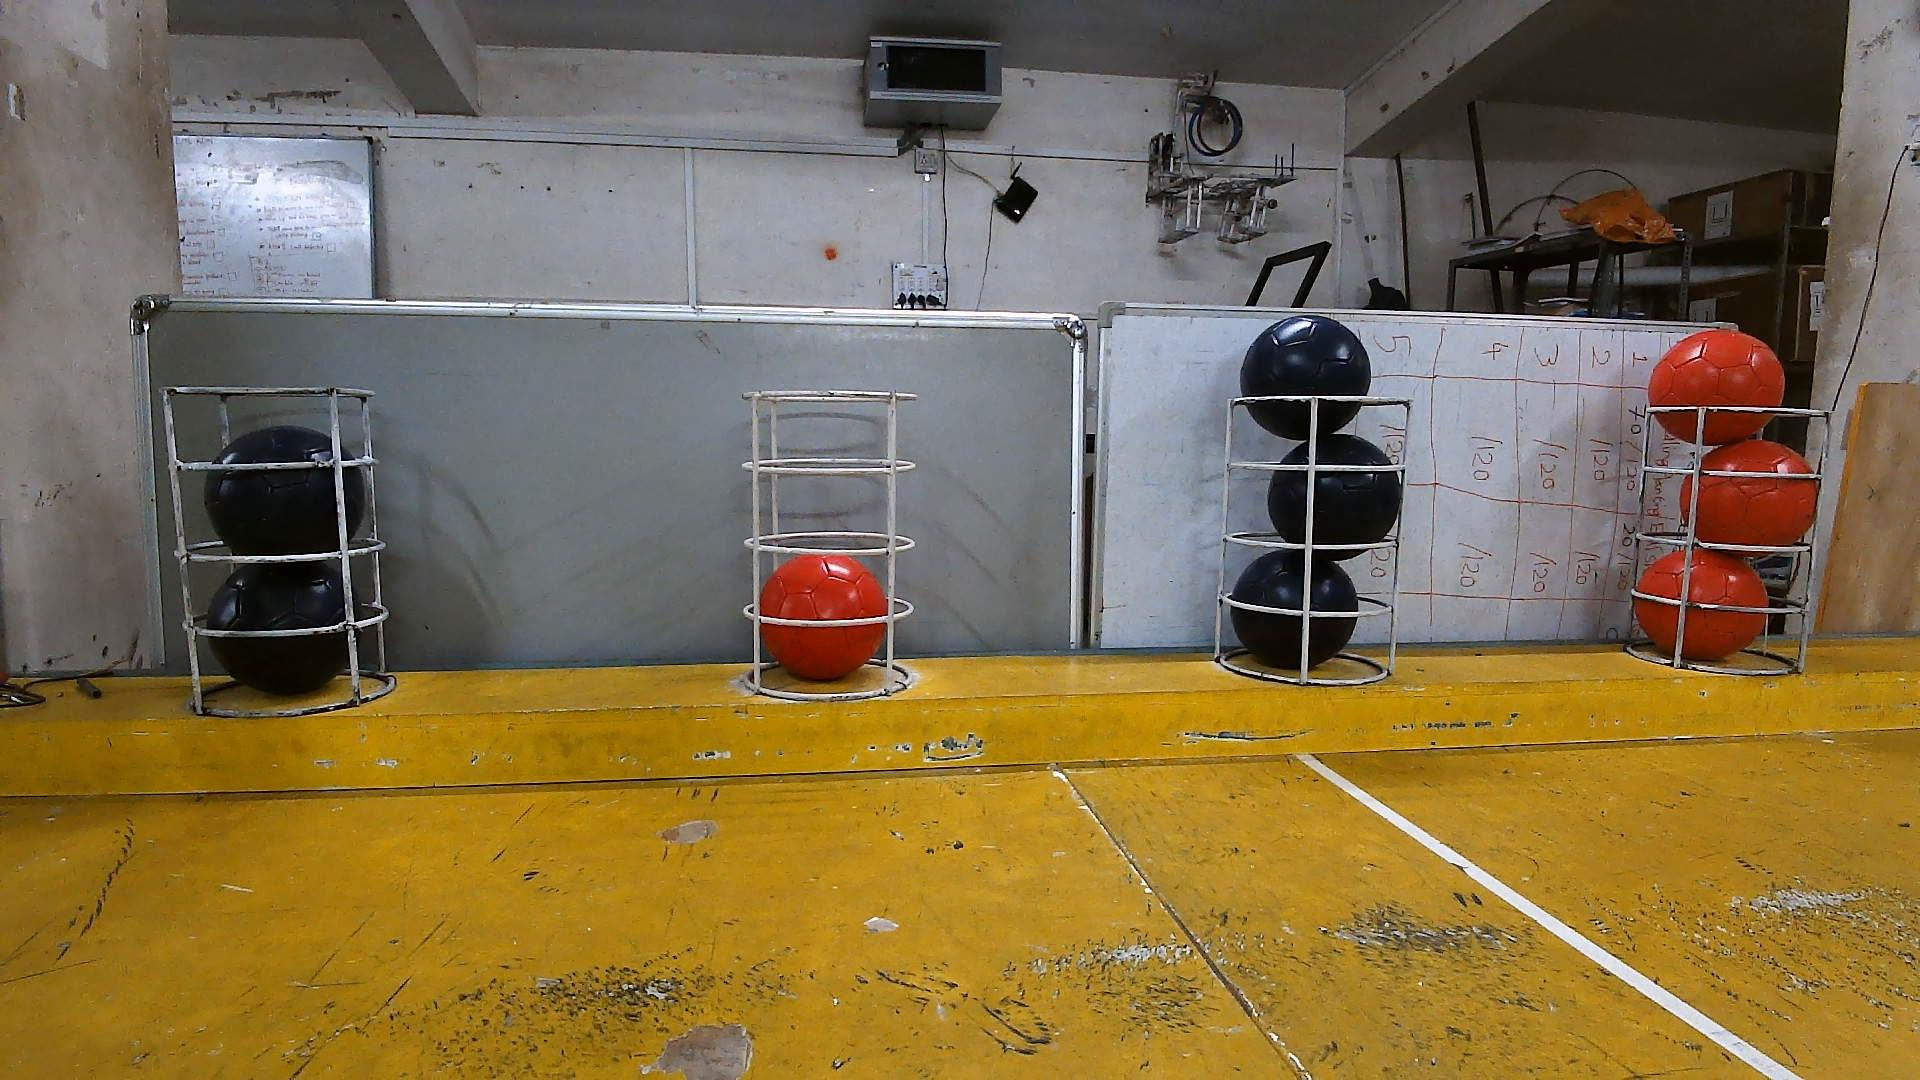dhoka: (203, 423, 368, 555), (203, 563, 364, 696), (1267, 431, 1403, 559), (1237, 315, 1373, 443), (1230, 547, 1357, 671)
laale: (757, 555, 889, 683), (1650, 330, 1785, 446), (1635, 547, 1770, 661), (1680, 439, 1818, 547)
